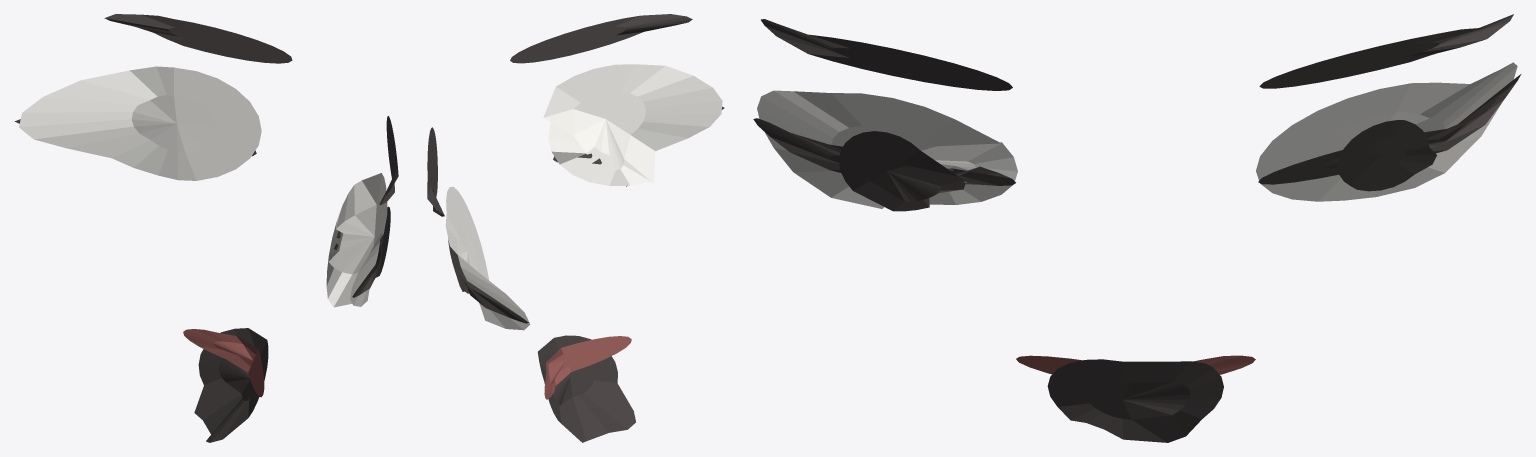
The model's file is char_player_face.glb.
3 renders of one model, left to right at view 1: azimuth 30°, elevation 25°; view 2: azimuth 150°, elevation 25°; view 3: azimuth 270°, elevation 25°, orthographic. The views are drawn at different scales.
Visible parts, largest first — view 1: eye_white_L, eye_white_R, mouth_open, brow_L, mouth_line, brow_R, pupil_R, eye_closed_R; view 2: eye_white_R, mouth_open, eye_white_L, brow_R, mouth_line, brow_L, eye_closed_L, pupil_L; view 3: eye_white_R, eye_white_L, mouth_open, pupil_R, brow_R, pupil_L, brow_L, eye_closed_L, eye_closed_R, mouth_line.
Part boxes in pixels (x1=…): eye_white_L: x1=19, y1=66, x2=261, y2=180; eye_white_R: x1=326, y1=173, x2=387, y2=307; mouth_open: x1=194, y1=328, x2=268, y2=442; brow_L: x1=104, y1=14, x2=292, y2=63; mouth_line: x1=183, y1=329, x2=264, y2=397; brow_R: x1=379, y1=116, x2=398, y2=204; pupil_R: x1=375, y1=206, x2=390, y2=277; eye_closed_R: x1=334, y1=231, x2=381, y2=297; eye_white_R: x1=543, y1=64, x2=722, y2=185; mouth_open: x1=537, y1=335, x2=635, y2=442; eye_white_L: x1=445, y1=186, x2=530, y2=330; brow_R: x1=510, y1=14, x2=692, y2=63; mouth_line: x1=544, y1=336, x2=631, y2=399; brow_L: x1=427, y1=127, x2=444, y2=216; eye_closed_L: x1=459, y1=265, x2=528, y2=323; pupil_L: x1=448, y1=238, x2=469, y2=293; eye_white_R: x1=757, y1=90, x2=1017, y2=208; eye_white_L: x1=1256, y1=62, x2=1517, y2=201; mouth_open: x1=1047, y1=359, x2=1223, y2=442; pupil_R: x1=839, y1=131, x2=965, y2=211; brow_R: x1=761, y1=19, x2=1012, y2=90; pupil_L: x1=1337, y1=120, x2=1436, y2=191; brow_L: x1=1259, y1=14, x2=1513, y2=88; eye_closed_L: x1=1258, y1=74, x2=1521, y2=184; eye_closed_R: x1=753, y1=118, x2=1015, y2=185; mouth_line: x1=1016, y1=355, x2=1255, y2=374.
Bounding box in the file's own units: 0.0284 × 0.0447 × 0.0671.
